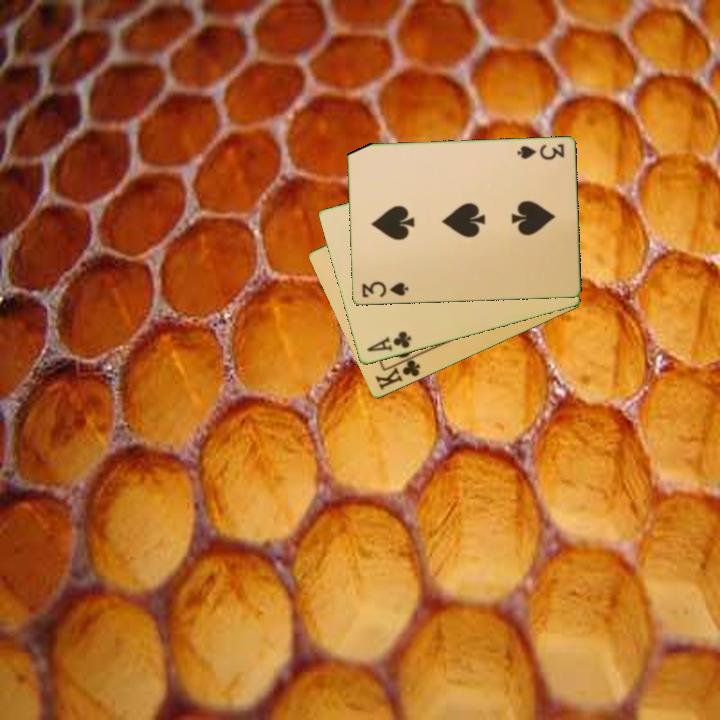3s: (513, 140, 567, 163), (358, 278, 411, 301)
Ac: (363, 328, 414, 355)
Kc: (371, 352, 423, 393)
